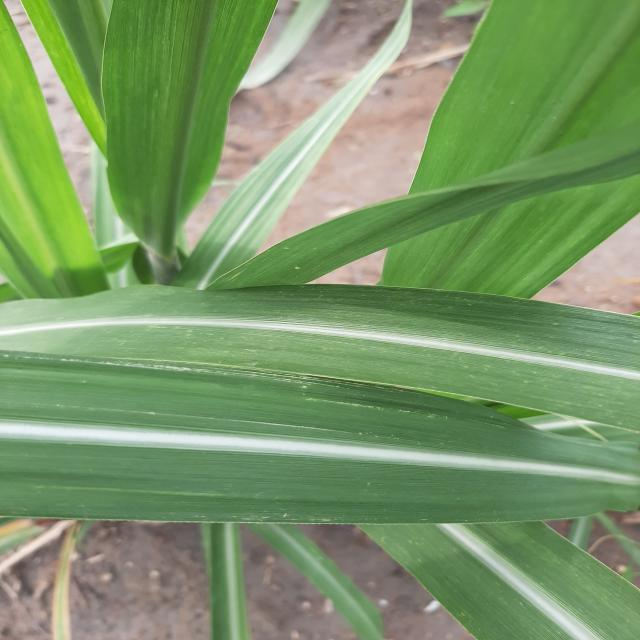Sugarcane: (1, 1, 638, 638)
